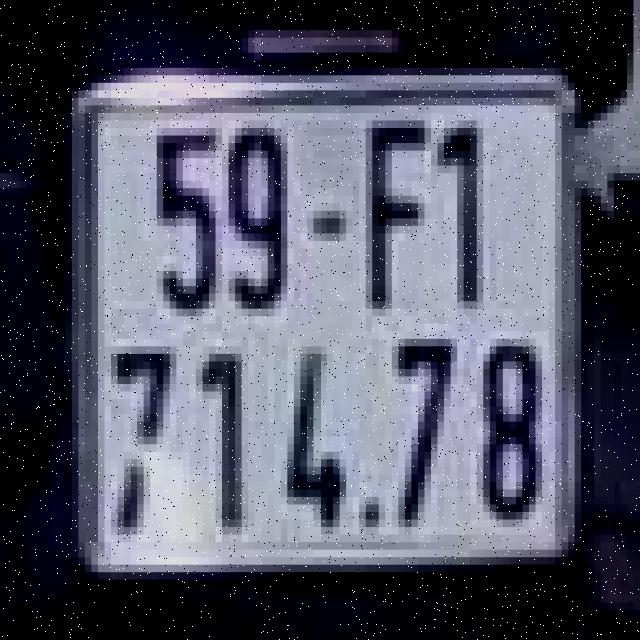1: (431, 113, 509, 324), (199, 342, 258, 546)
4: (271, 331, 362, 550)
5: (144, 116, 222, 328)
7: (94, 324, 180, 542), (379, 331, 457, 542)
8: (470, 324, 568, 542)
9: (225, 109, 304, 313)
F: (353, 94, 431, 320)
